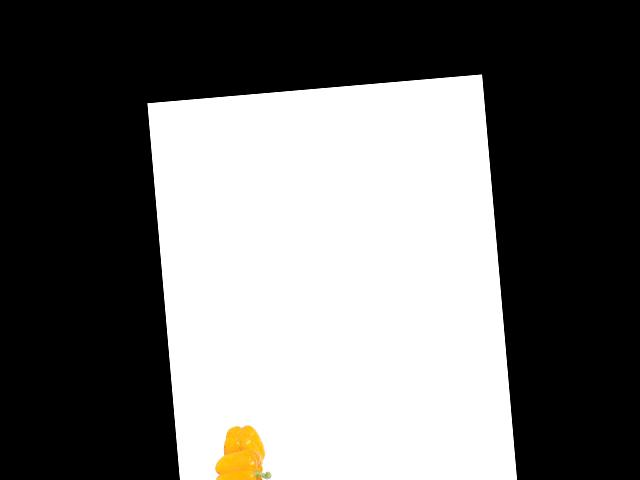bell_pepper: (215, 420, 267, 468)
